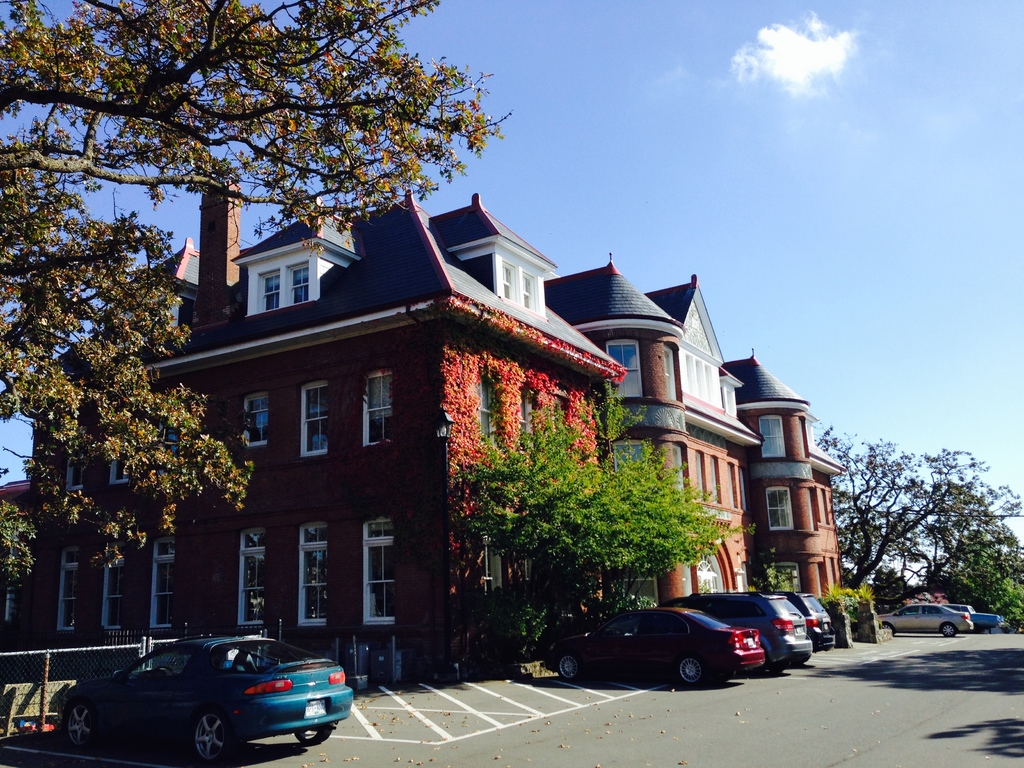car: (39, 601, 380, 765), (513, 589, 765, 694), (702, 577, 829, 673), (872, 584, 980, 649), (787, 573, 852, 654)
